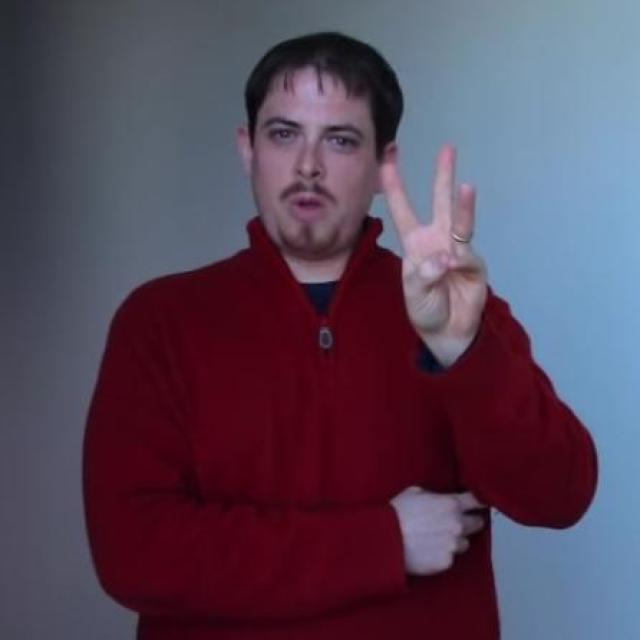W: (374, 140, 491, 341)
